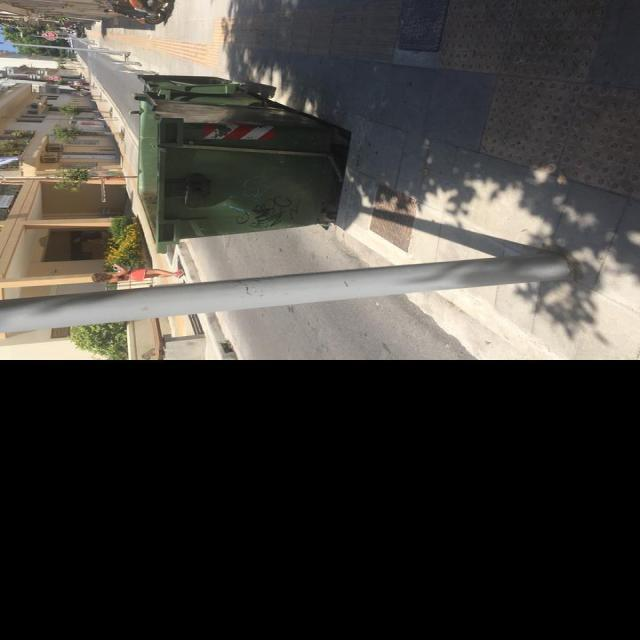nonspitting: (236, 194, 301, 228)
